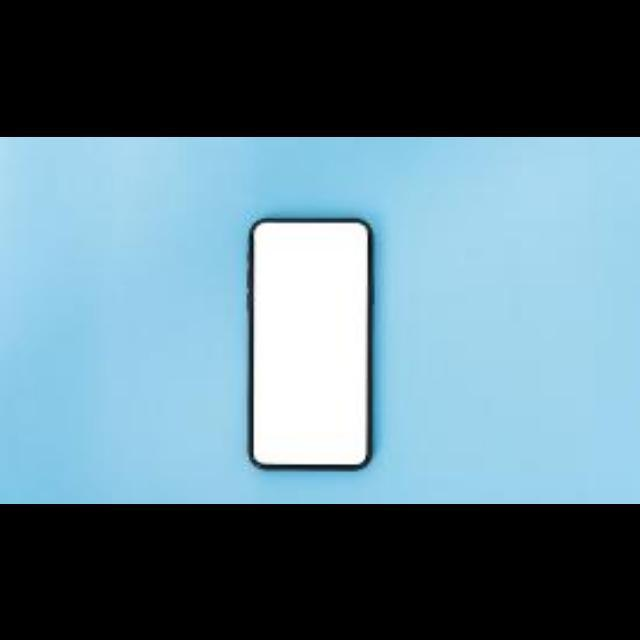PhoneUse: (240, 212, 374, 478)
